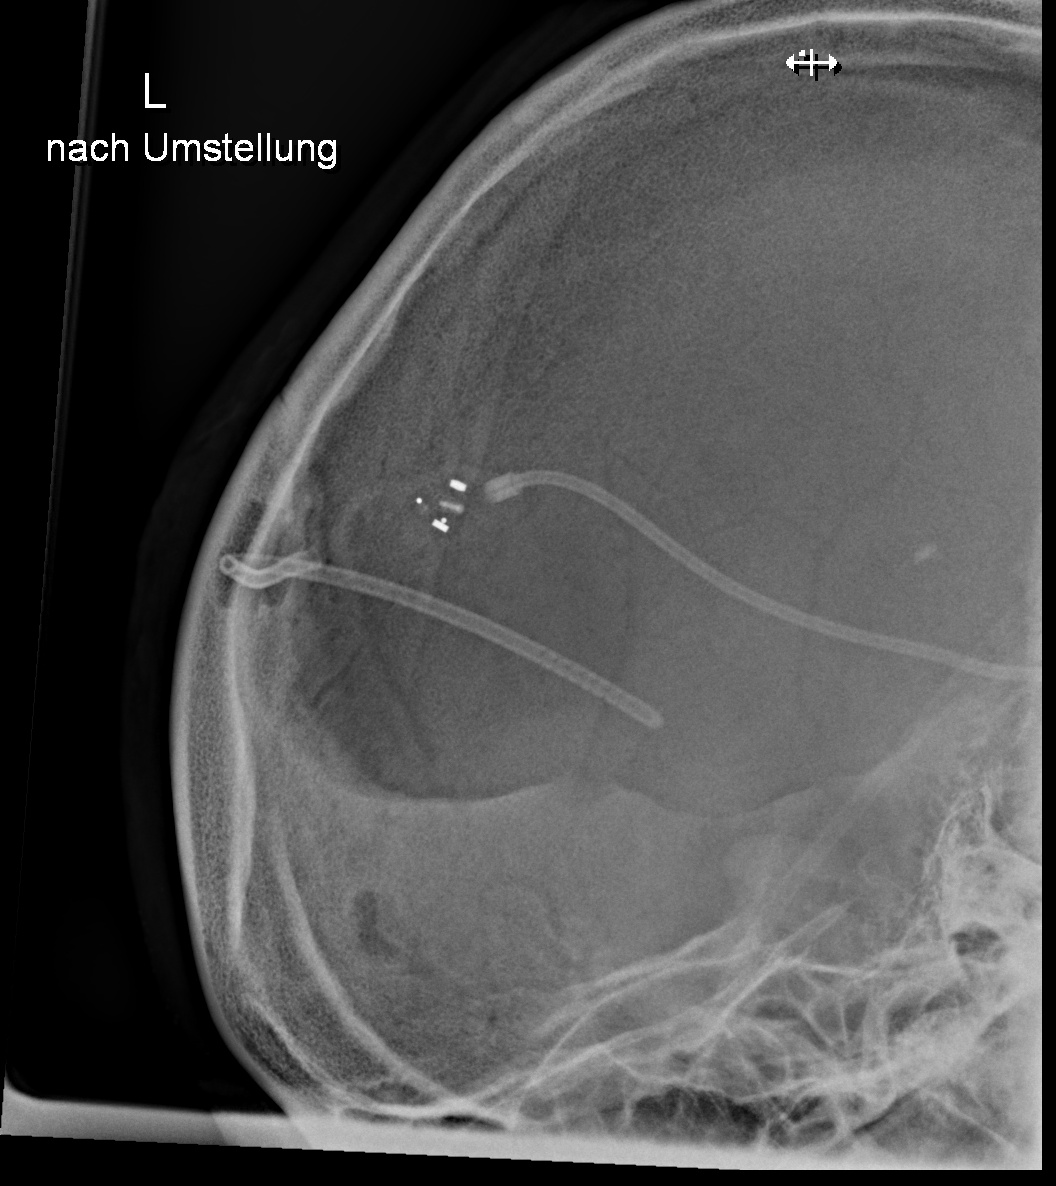Codman Certas: (398, 460, 490, 549)
